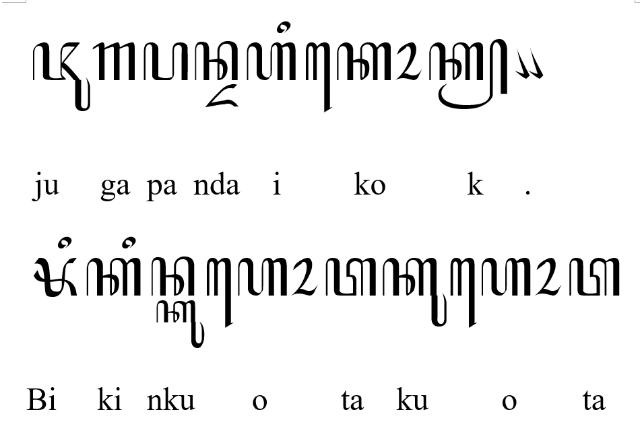-k: (428, 38, 508, 110)
B: (32, 258, 78, 298)
_d: (204, 82, 240, 108)
e1: (206, 258, 234, 329), (450, 257, 476, 329), (306, 42, 332, 112)
g: (92, 42, 136, 82)
h: (481, 257, 532, 297), (246, 41, 296, 81), (238, 257, 288, 297)
i: (276, 20, 292, 34), (58, 236, 72, 248), (122, 236, 136, 248)
ju: (31, 41, 91, 113)
k: (336, 41, 392, 81), (86, 258, 142, 296)
kom: (513, 47, 529, 78), (527, 47, 543, 78)
ku: (382, 257, 448, 327), (156, 300, 204, 349)
n: (194, 40, 238, 81), (152, 257, 196, 297)
o: (395, 42, 423, 81), (291, 258, 319, 296), (534, 258, 562, 296)
p: (144, 42, 188, 82)
t: (325, 257, 377, 297), (568, 258, 620, 296)
